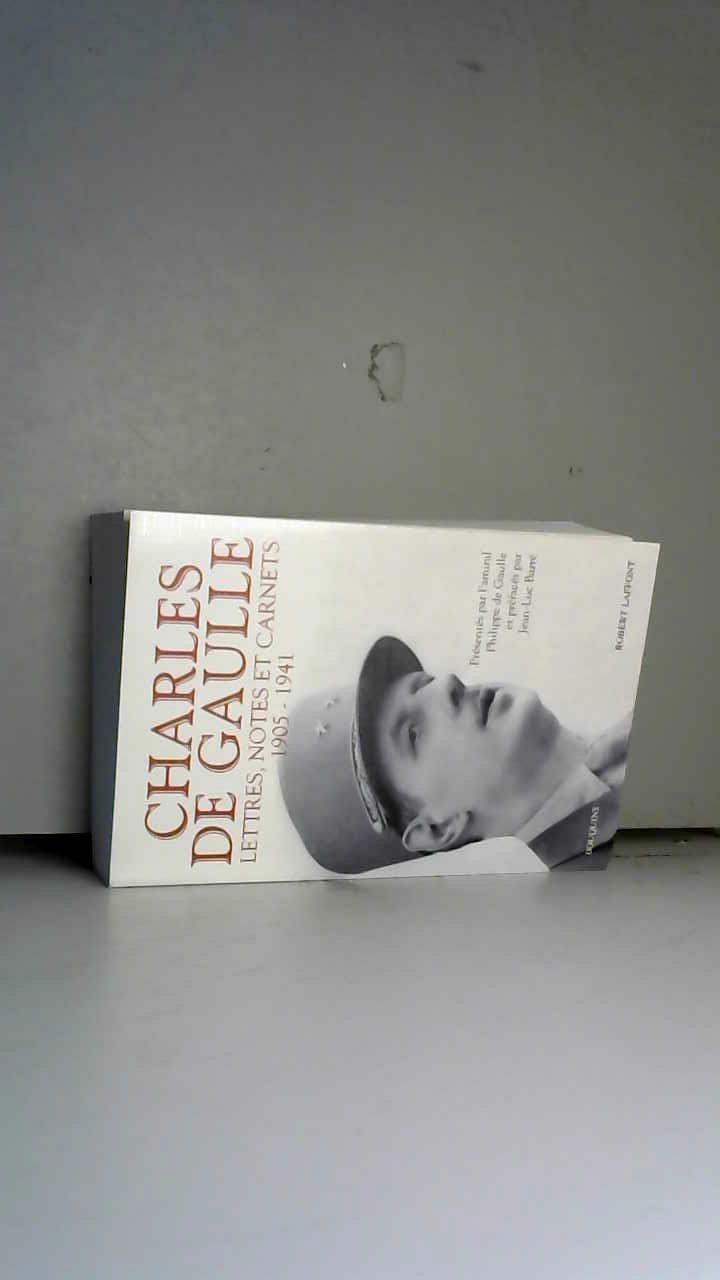book: (67, 487, 677, 909)
